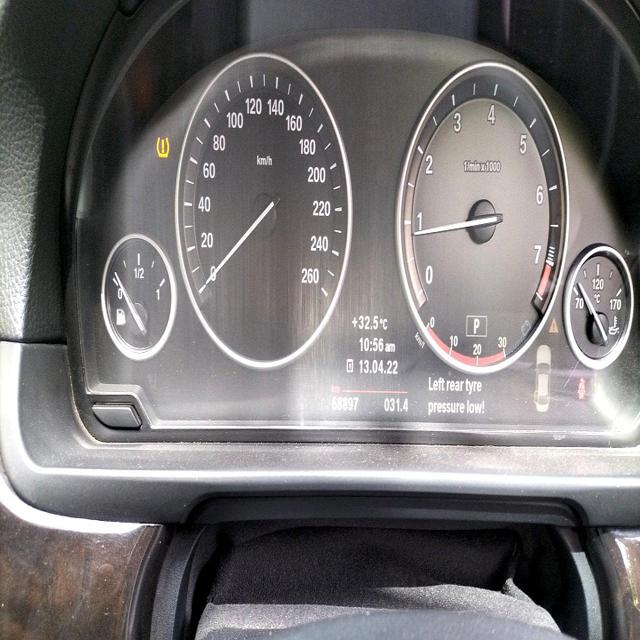odometer: (330, 393, 359, 415)
